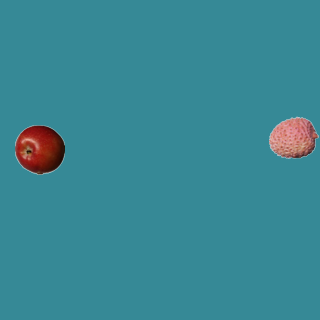Apple Braeburn: (14, 124, 64, 174)
Lychee: (268, 112, 318, 162)
